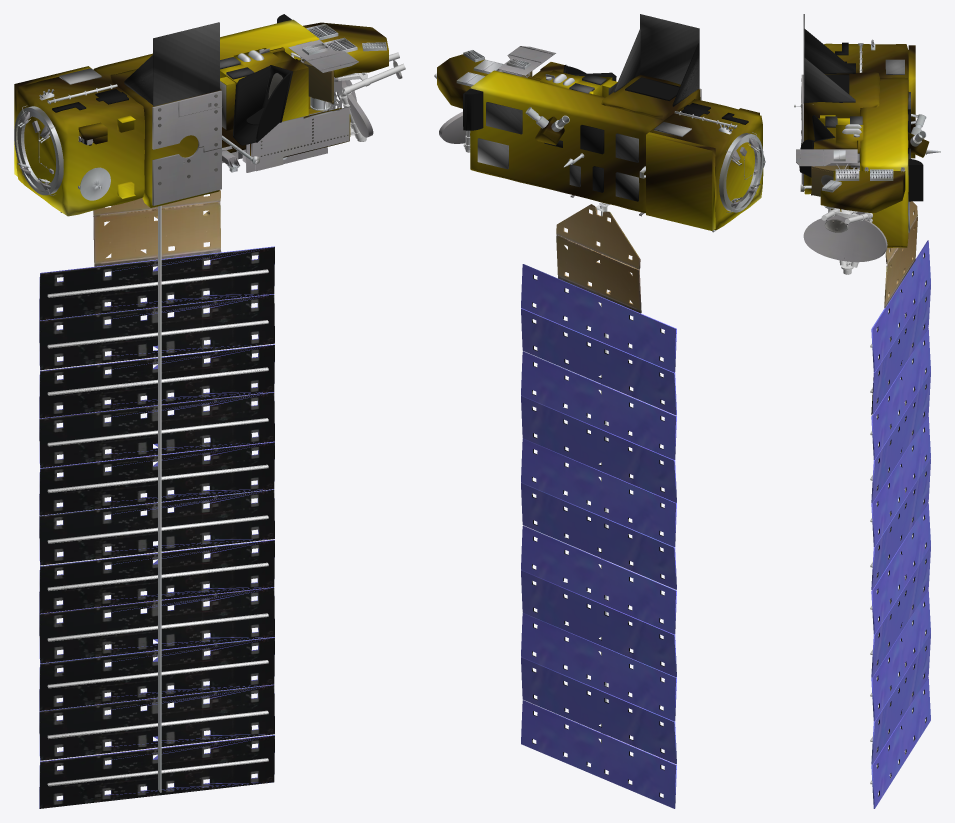
File: aura.glb
3 renders of one model, left to right at view 1: azimuth 30°, elevation 25°; view 2: azimuth 150°, elevation 25°; view 3: azimuth 270°, elevation 25°, orthographic. The views are drawn at different scales.
Visible parts, largest first — view 1: tex_01b, foil_gold, tex_01c, shiny_panel, tex_01, foil_silver, black_krinkle, tex_01d; view 2: shiny_panel, foil_gold, foil_silver, tex_01b, black_krinkle, tex_01, tex_01c; view 3: shiny_panel, foil_gold, tex_01, foil_silver, tex_01b, black_krinkle, tex_01d, tex_01c.
Boxes of the visible parts, x1=… form: tex_01b: x1=39, y1=91, x2=339, y2=808; foil_gold: x1=14, y1=19, x2=388, y2=216; tex_01c: x1=14, y1=81, x2=238, y2=212; shiny_panel: x1=39, y1=246, x2=274, y2=808; tex_01: x1=222, y1=24, x2=402, y2=172; foil_silver: x1=59, y1=22, x2=254, y2=106; black_krinkle: x1=52, y1=14, x2=292, y2=145; tex_01d: x1=290, y1=52, x2=405, y2=141; shiny_panel: x1=521, y1=264, x2=676, y2=808; foil_gold: x1=437, y1=54, x2=763, y2=230; foil_silver: x1=477, y1=14, x2=699, y2=201; tex_01b: x1=532, y1=202, x2=664, y2=798; black_krinkle: x1=463, y1=65, x2=748, y2=192; tex_01: x1=439, y1=46, x2=574, y2=195; tex_01c: x1=559, y1=83, x2=765, y2=232; shiny_panel: x1=871, y1=240, x2=930, y2=808; foil_gold: x1=804, y1=43, x2=929, y2=247; tex_01: x1=796, y1=115, x2=926, y2=262; foil_silver: x1=803, y1=14, x2=910, y2=232; tex_01b: x1=856, y1=201, x2=926, y2=796; black_krinkle: x1=799, y1=42, x2=923, y2=201; tex_01d: x1=813, y1=163, x2=872, y2=274; tex_01c: x1=794, y1=39, x2=940, y2=191.
Size of the model in its own units: 8.73 by 18.7 by 3.43.
6 materials, 4 textured.
